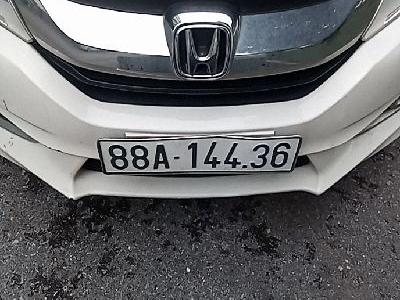lisence: (95, 133, 304, 177)
